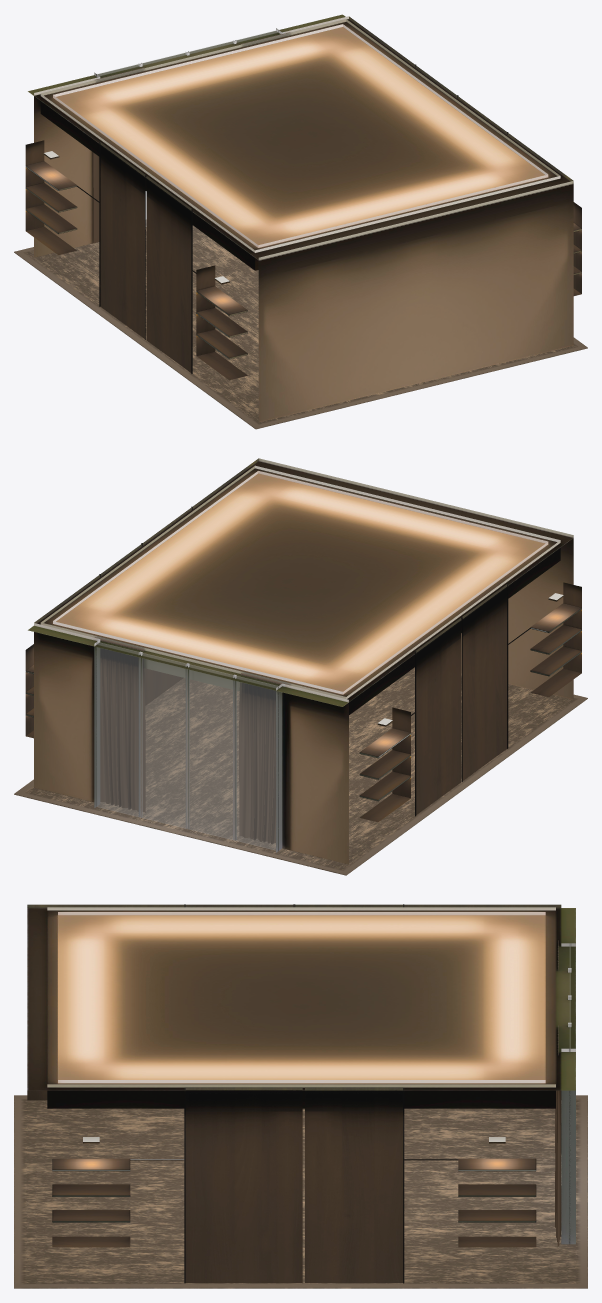
Rendered from Sovereign atrium.glb.
3 renders of one model, top to bottom at view 1: azimuth 30°, elevation 25°; view 2: azimuth 150°, elevation 25°; view 3: azimuth 270°, elevation 25°, orthographic. The views are drawn at different scales.
Visible parts, largest first — view 1: Wall, wood, carpet, Curtainss, Glass; view 2: Wall, Glass, carpet, wood, Curtainss; view 3: Wall, carpet, wood, Curtainss.
Boxes of the visible parts, x1,y1,x2,y2 form: Wall: (28, 14, 573, 422); wood: (25, 16, 581, 380); carpet: (14, 219, 587, 429); Curtainss: (93, 32, 290, 243); Glass: (97, 30, 278, 226); Wall: (28, 458, 573, 864); Glass: (97, 642, 277, 850); carpet: (14, 667, 587, 875); wood: (25, 458, 581, 822); Curtainss: (94, 637, 289, 844); Wall: (27, 907, 575, 1244); carpet: (14, 1095, 587, 1288); wood: (27, 904, 561, 1283); Curtainss: (555, 940, 561, 1247).
Bounding box in the file's own units: 2.44 × 1.09 × 2.89.
Materials: 10 (7 with a texture image).
